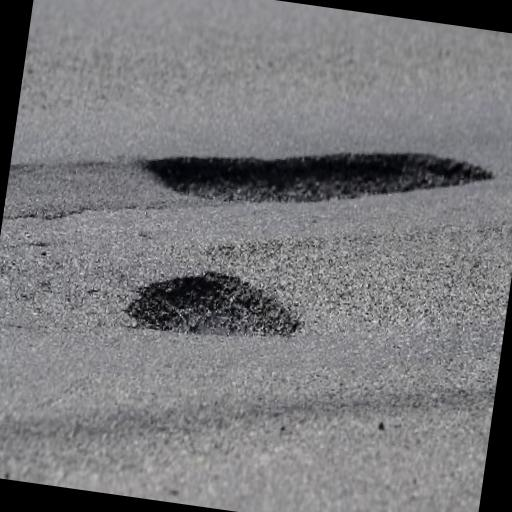pothole: (136, 112, 498, 242), (122, 259, 308, 357)
